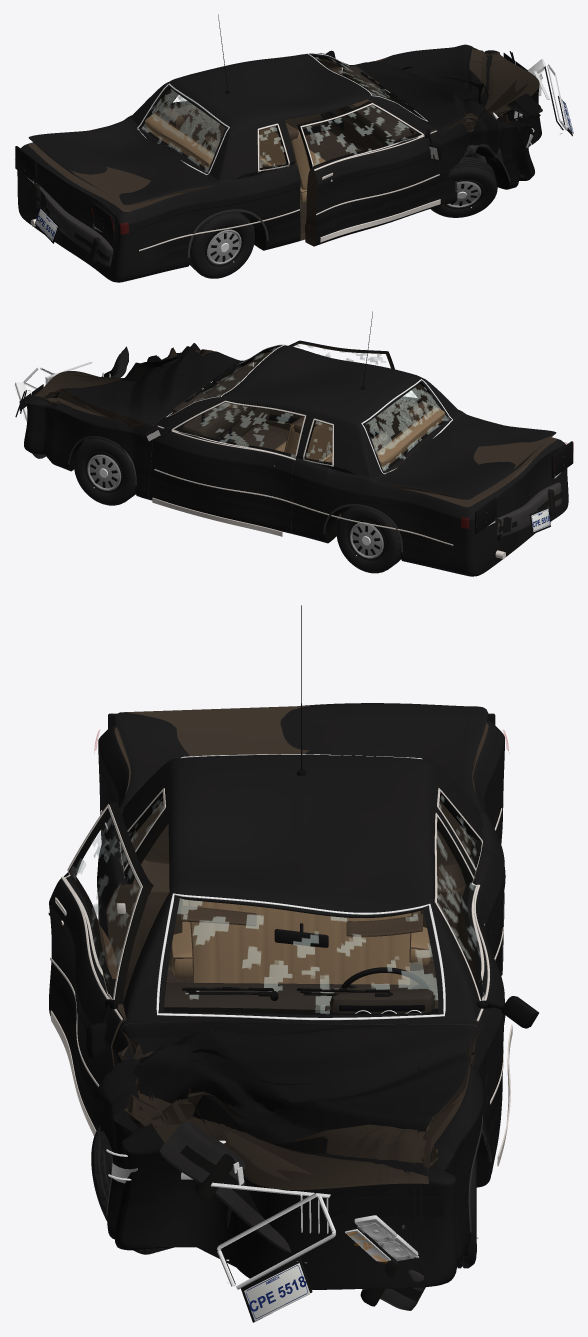
Rendered from coupe84_front_corner_R_d2.glb.
3 renders of one model, top to bottom at view 1: azimuth 30°, elevation 25°; view 2: azimuth 150°, elevation 25°; view 3: azimuth 270°, elevation 25°, orthographic. The views are drawn at different scales.
Visible parts, largest first — view 1: Body, Door_FR, Trunk, Hood, Interior, Wheel_RR_mesh, Glass, Ends, Wheel_FR_mesh, Trim_FR, Bumper_R, Trim (+3 smaller); view 2: Body, Door_FL, Trunk, Hood, Interior, Wheel_RL_mesh, Glass, Wheel_FL_mesh, Trim_FL, Ends, Trim, Bumper_R (+3 smaller); view 3: Body, Hood, Interior, Trunk, Door_FR, Ends, Glass, Bumper_F, Door_FL, Trim_FR, Trim, Trim_FL (+3 smaller).
Boxes of the visible parts, x1=… form: Body: x1=17, y1=50, x2=541, y2=282; Door_FR: x1=297, y1=101, x2=443, y2=246; Trunk: x1=28, y1=119, x2=217, y2=205; Hood: x1=352, y1=44, x2=492, y2=132; Interior: x1=145, y1=66, x2=417, y2=201; Wheel_RR_mesh: x1=189, y1=211, x2=254, y2=278; Glass: x1=137, y1=53, x2=427, y2=175; Ends: x1=15, y1=51, x2=573, y2=243; Wheel_FR_mesh: x1=431, y1=156, x2=497, y2=217; Trim_FR: x1=300, y1=103, x2=442, y2=242; Bumper_R: x1=29, y1=182, x2=113, y2=267; Trim: x1=139, y1=14, x2=510, y2=257; Body: x1=24, y1=343, x2=568, y2=576; Door_FL: x1=149, y1=400, x2=306, y2=533; Trunk: x1=374, y1=413, x2=556, y2=499; Hood: x1=42, y1=346, x2=240, y2=427; Interior: x1=172, y1=368, x2=444, y2=468; Wheel_RL_mesh: x1=336, y1=506, x2=400, y2=573; Glass: x1=166, y1=344, x2=452, y2=474; Wheel_FL_mesh: x1=74, y1=438, x2=135, y2=505; Trim_FL: x1=143, y1=400, x2=306, y2=536; Ends: x1=15, y1=355, x2=573, y2=534; Trim: x1=68, y1=311, x2=453, y2=552; Bumper_R: x1=487, y1=482, x2=562, y2=541; Body: x1=96, y1=720, x2=504, y2=1289; Hood: x1=121, y1=1022, x2=479, y2=1176; Interior: x1=164, y1=899, x2=438, y2=1013; Trunk: x1=115, y1=703, x2=488, y2=810; Door_FR: x1=49, y1=802, x2=153, y2=1130; Ends: x1=106, y1=713, x2=495, y2=1322; Glass: x1=124, y1=754, x2=479, y2=1020; Bumper_F: x1=159, y1=1121, x2=425, y2=1310; Door_FL: x1=433, y1=811, x2=504, y2=1159; Trim_FR: x1=48, y1=804, x2=142, y2=1136; Trim: x1=97, y1=605, x2=505, y2=1232; Trim_FL: x1=434, y1=813, x2=538, y2=1166.
Bounding box in the file's own units: 5.3 × 2.19 × 2.18.
34 materials, 5 textured.
